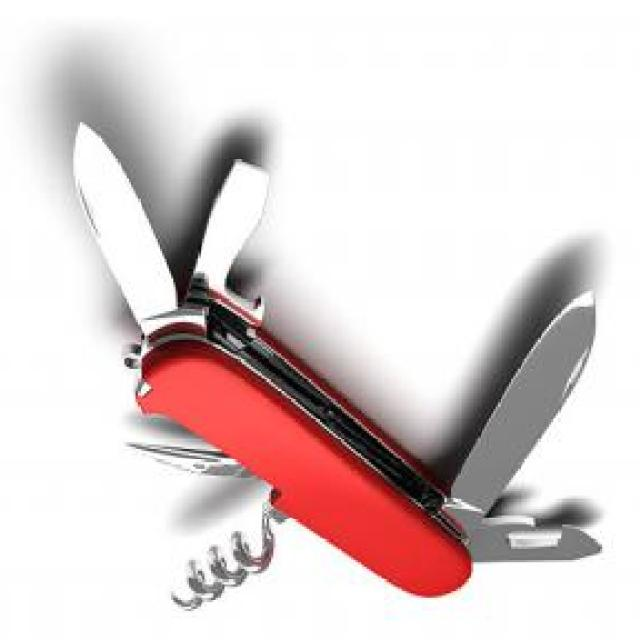knife: (429, 282, 601, 544), (64, 115, 194, 378)
